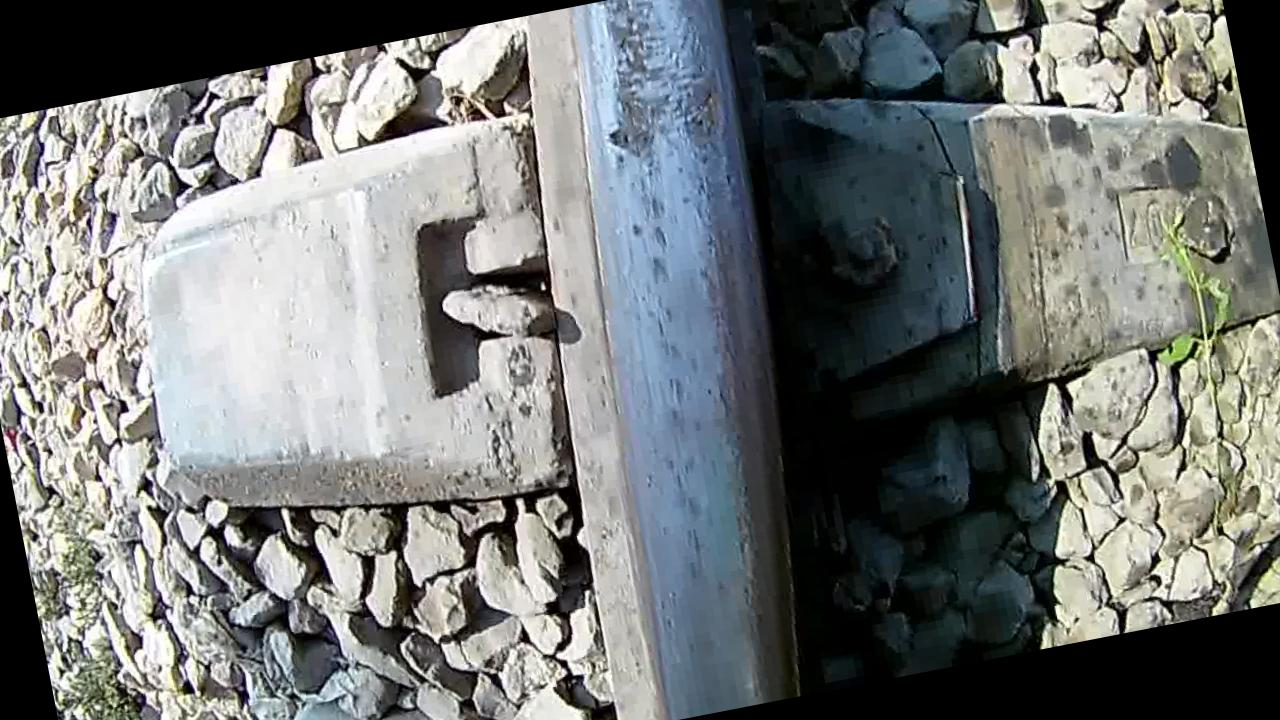crack: (535, 0, 851, 720)
